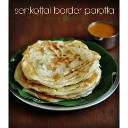parota: (26, 38, 98, 85)
